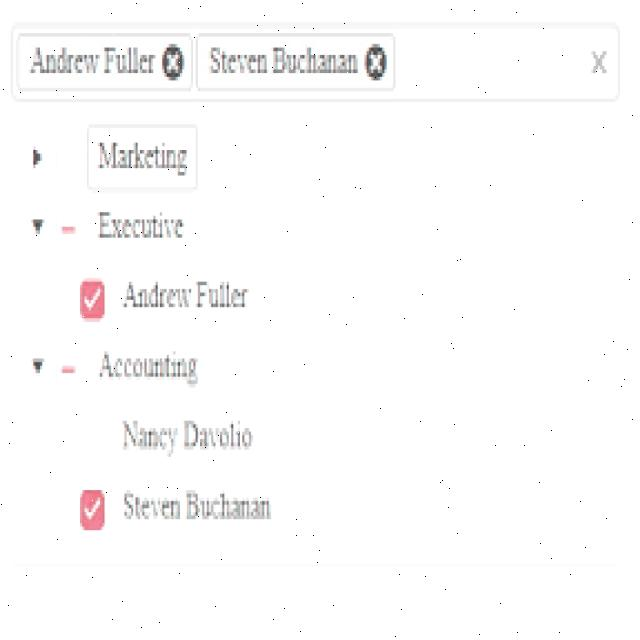checkbox: (79, 490, 107, 530), (79, 279, 105, 320), (56, 211, 80, 251), (56, 140, 81, 177), (80, 422, 104, 460), (58, 351, 79, 391)
label: (120, 481, 280, 529), (116, 414, 268, 460), (122, 272, 266, 319), (88, 127, 197, 189), (92, 345, 224, 387), (96, 203, 196, 249)
tabControl: (195, 26, 400, 96), (9, 27, 192, 93)
